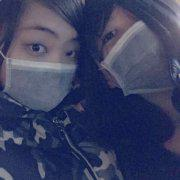OK: (102, 6, 180, 94), (5, 27, 83, 105)
